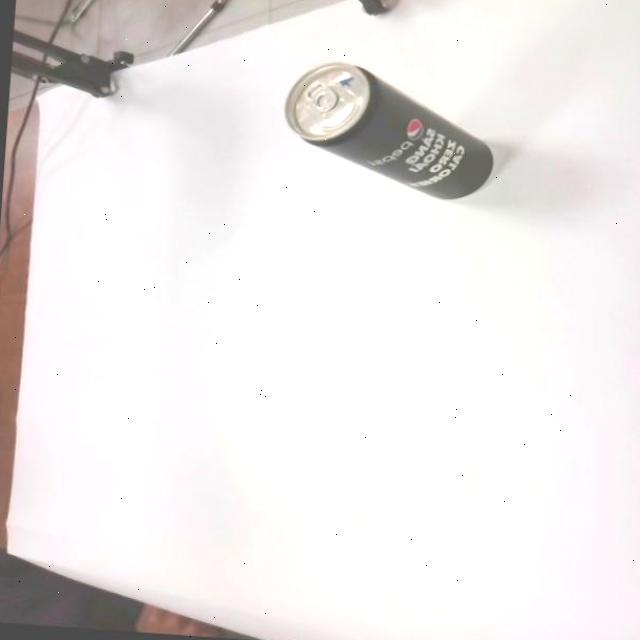debris: (276, 57, 498, 203)
